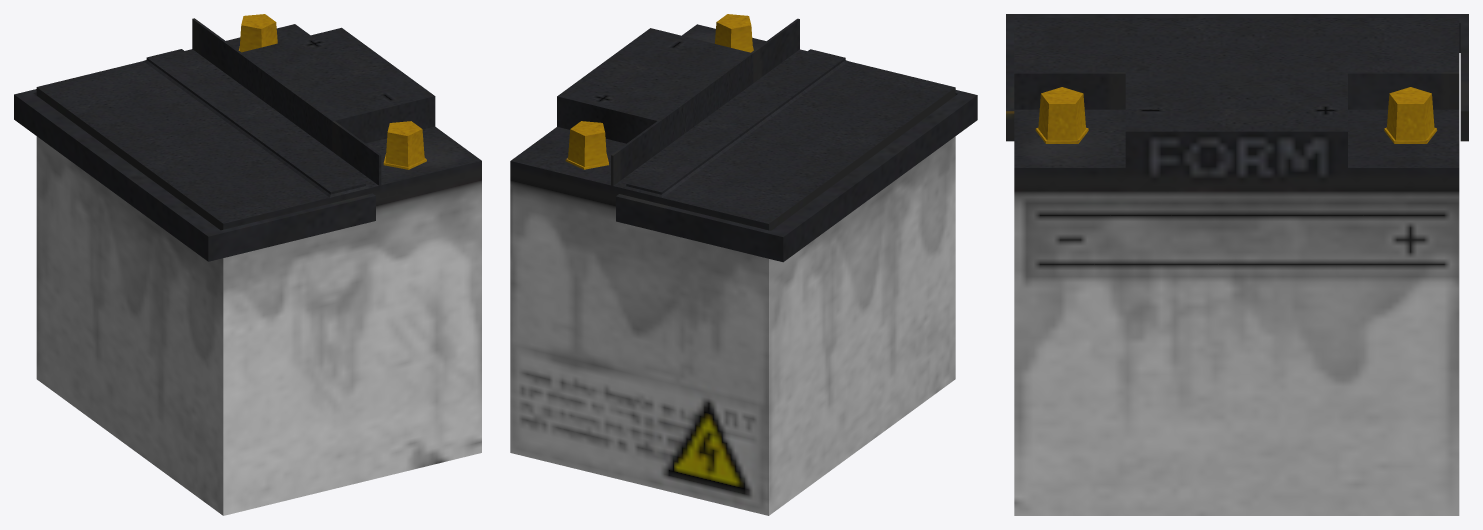
File: other_carbattery.dae
3 renders of one model, left to right at view 1: azimuth 30°, elevation 25°; view 2: azimuth 150°, elevation 25°; view 3: azimuth 270°, elevation 25°, orthographic. The views are drawn at different scales.
Parts seen in each view (by area): view 1: carbattery; view 2: carbattery; view 3: carbattery.
Boxes of the visible parts, x1=… form: carbattery: x1=14, y1=14, x2=481, y2=515; carbattery: x1=510, y1=14, x2=977, y2=515; carbattery: x1=1006, y1=14, x2=1468, y2=515.
Size of what is drawn, in the model's own units: 0.2215 by 0.2476 by 0.2691.
